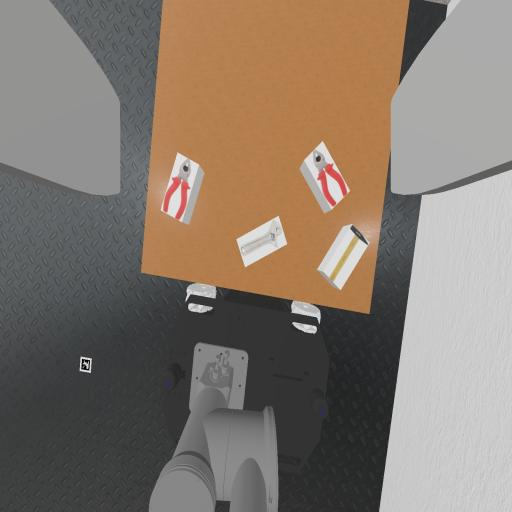hammer: (330, 225, 368, 281)
pliers: (314, 150, 348, 206), (163, 159, 191, 219)
wrench: (241, 221, 282, 255)
